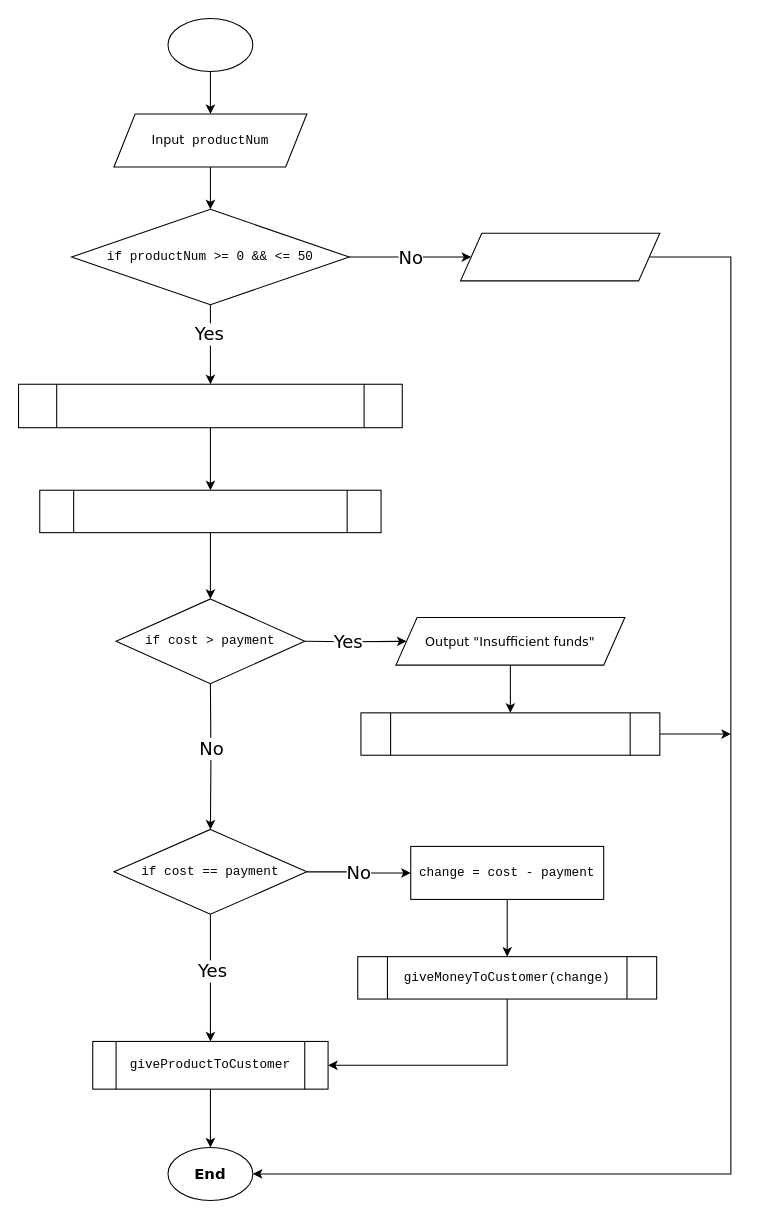
The diagram is 758 pixels wide and 1219 high, and some of its shapes have lost their labels. The shapes that lost their labels are listed below. From the top down, each one's centre as x and y in pixels, then its label:
(x=210, y=44): Start
(x=560, y=256): Output "invalid Product"
(x=209, y=405): cost = GetProductCost(productNum)
(x=210, y=511): payment = TakeMoneyFromCustomer
(x=510, y=733): giveMoneyToCustomer(payment)
